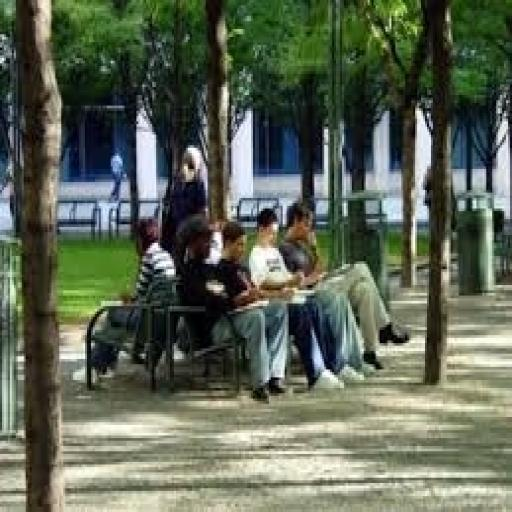sitting: (87, 198, 411, 401)
